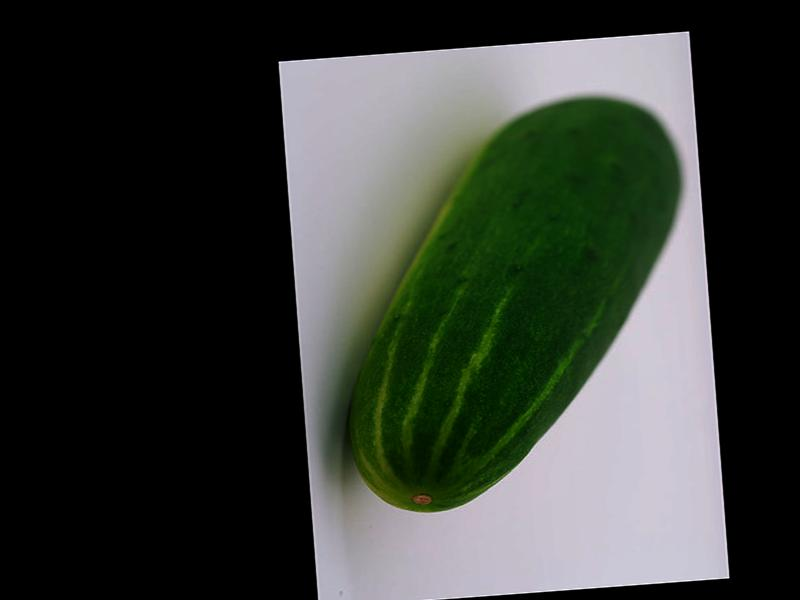Cucumber: (326, 91, 704, 517)
